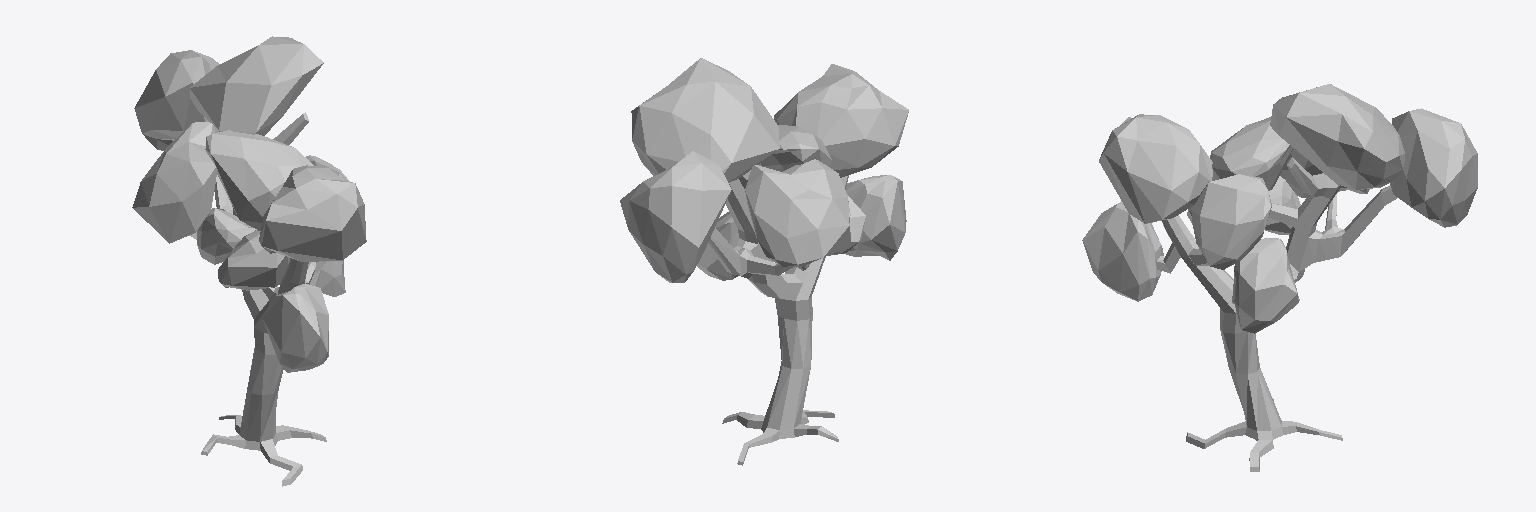
The model's file is tree2.obj.
3 views of the same model, side by side, from view 1: azimuth 30°, elevation 25°; view 2: azimuth 150°, elevation 25°; view 3: azimuth 270°, elevation 25° (orthographic).
Parts seen in each view (by area): view 1: t1-green_Cylinder.002; view 2: t1-green_Cylinder.002; view 3: t1-green_Cylinder.002.
Boxes of the visible parts, <box> form: t1-green_Cylinder.002: <box>132,36,366,486</box>; t1-green_Cylinder.002: <box>620,58,908,465</box>; t1-green_Cylinder.002: <box>1082,84,1477,471</box>.
Bounding box in the file's own units: 6.06 × 11.75 × 11.01.